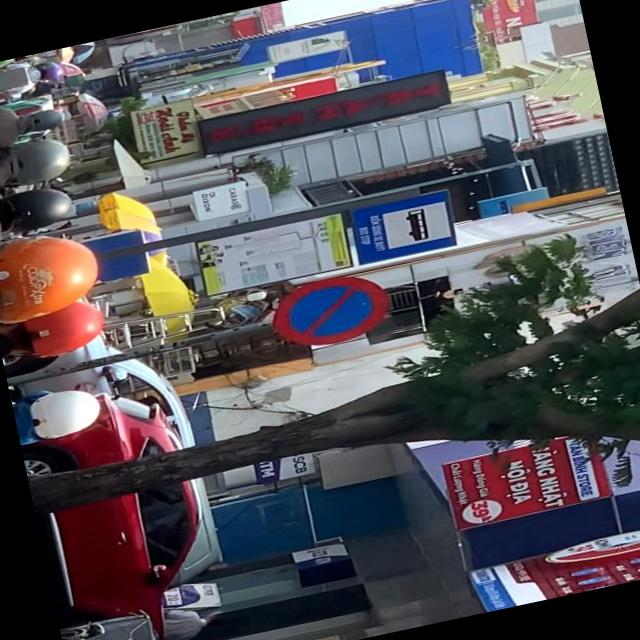P-131a: (266, 264, 395, 352)
